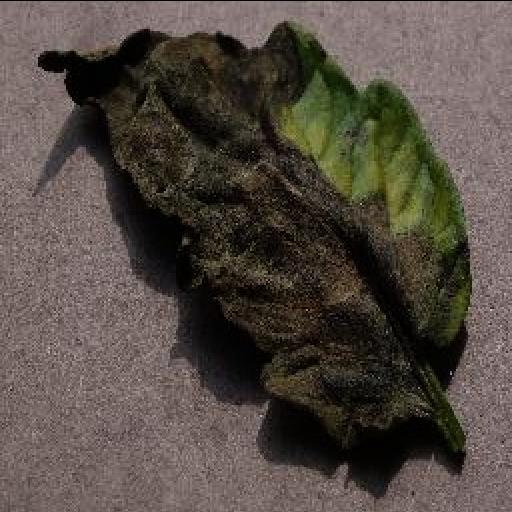disease_tomato: (34, 20, 474, 442)
